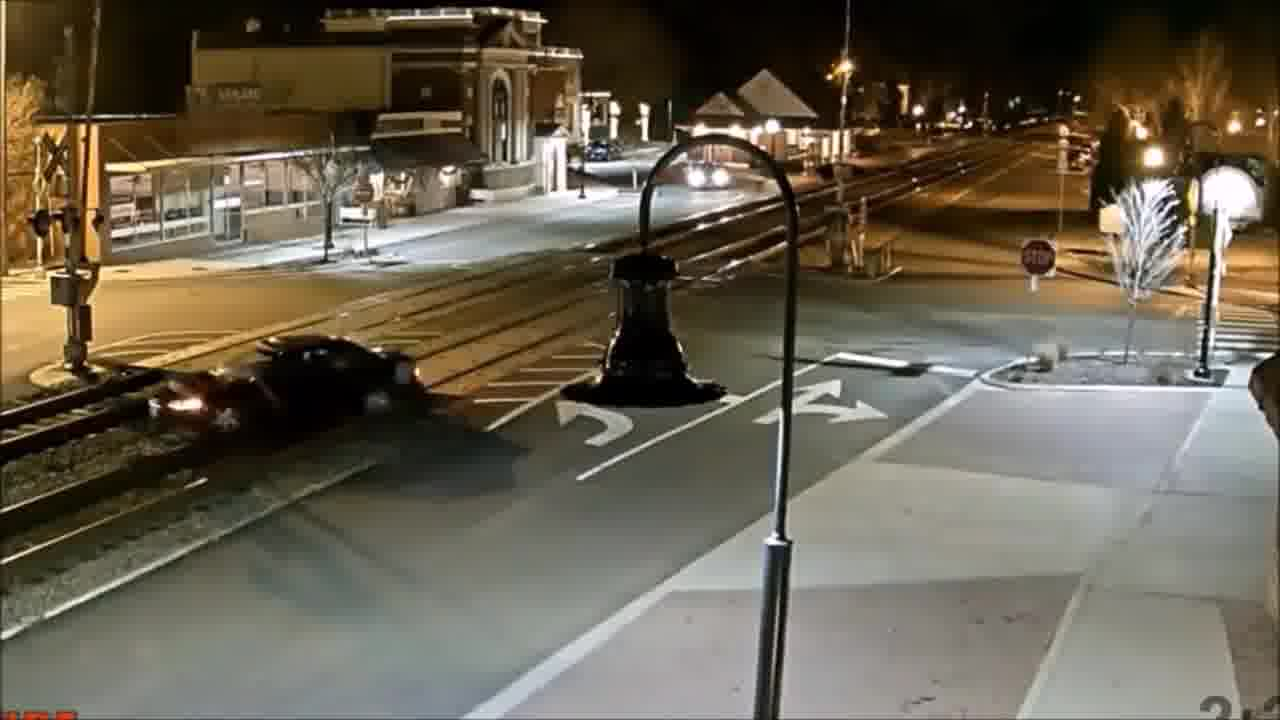crossing railway track: (139, 326, 428, 456)
